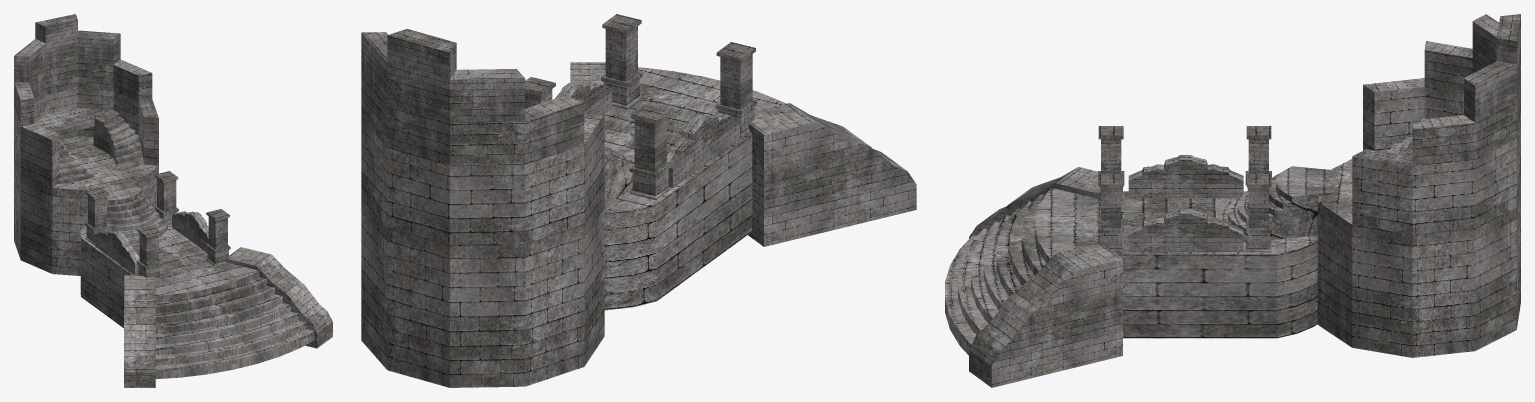
Rendered from CastleDestroy.fbx.
3 views of the same model, side by side, from view 1: azimuth 30°, elevation 25°; view 2: azimuth 150°, elevation 25°; view 3: azimuth 270°, elevation 25° (orthographic). The views are drawn at different scales.
Parts seen in each view (by area): view 1: Circle.010, Cube.018, Cube.019, Cube.017, Cube.020, Cube.024, Cube.026, Cube.021, Cube.025, Cube.023; view 2: Circle.010, Cube.017, Cube.019, Cube.020, Cube.018, Cube.021, Cube.026, Cube.023; view 3: Circle.010, Cube.017, Cube.019, Cube.018, Cube.020, Cube.026, Cube.021, Cube.023.
Part boxes in pixels (x1,y1,x2,y2): Circle.010: (14, 14, 158, 275); Cube.018: (155, 263, 314, 379); Cube.019: (124, 247, 332, 387); Cube.017: (80, 222, 211, 327); Cube.020: (85, 171, 230, 279); Cube.024: (47, 110, 143, 183); Cube.026: (89, 179, 167, 244); Cube.021: (94, 230, 139, 275); Cube.025: (34, 108, 105, 135); Cube.023: (172, 211, 208, 252); Circle.010: (361, 29, 604, 387); Cube.017: (604, 100, 752, 310); Cube.019: (570, 62, 916, 246); Cube.020: (525, 14, 757, 199); Cube.018: (638, 67, 785, 115); Cube.021: (666, 112, 739, 187); Cube.026: (604, 146, 634, 202); Cube.023: (555, 81, 611, 114); Circle.010: (1317, 14, 1520, 357); Cube.017: (1099, 191, 1317, 338); Cube.019: (969, 167, 1122, 387); Cube.018: (945, 188, 1100, 355); Cube.020: (1098, 126, 1271, 252); Cube.026: (1218, 166, 1335, 242); Cube.021: (1128, 155, 1243, 198); Cube.023: (1128, 208, 1243, 251).
Bounding box in the file's own units: 2456 × 2322 × 4103.
